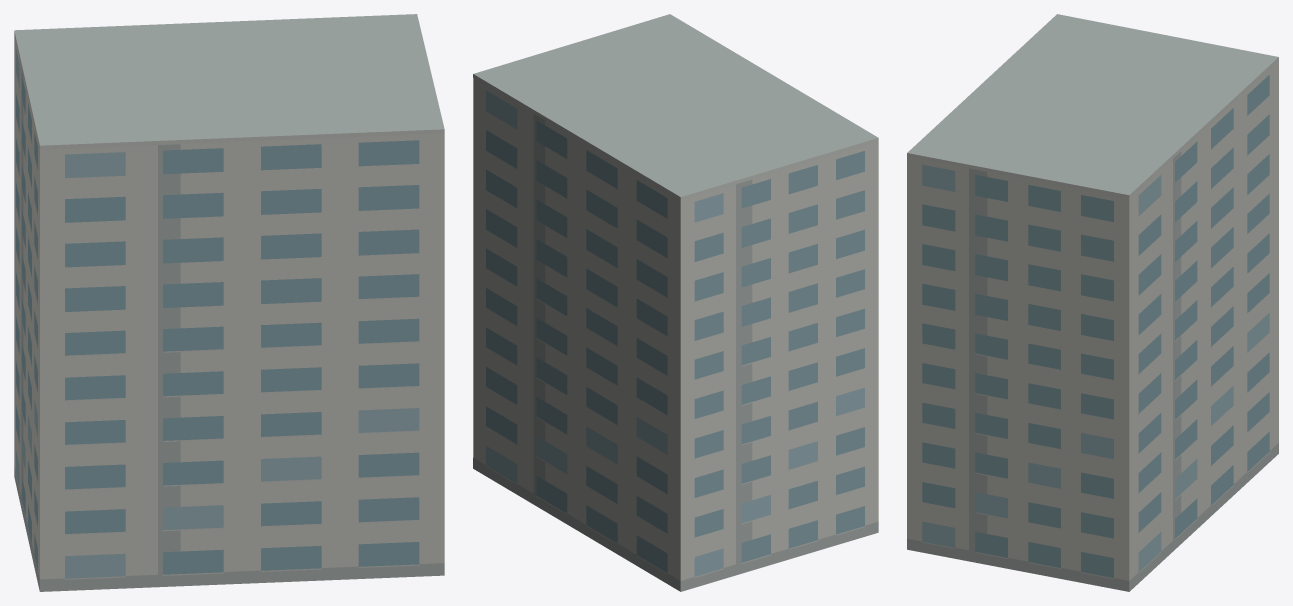
Rendered from residential-78c42910-112c-4ffe-bf8a-4cc31ca0dda2.glb.
The picture shows the model from 3 angles, left to right: view 1: azimuth 30°, elevation 25°; view 2: azimuth 150°, elevation 25°; view 3: azimuth 270°, elevation 25°; orthographic projection. The views are drawn at different scales.
Visible parts, largest first — view 1: residential-78c42910-112c-4ffe-bf8a-4cc31ca0dda2.tmp; view 2: residential-78c42910-112c-4ffe-bf8a-4cc31ca0dda2.tmp; view 3: residential-78c42910-112c-4ffe-bf8a-4cc31ca0dda2.tmp.
Part boxes in pixels (<box>): residential-78c42910-112c-4ffe-bf8a-4cc31ca0dda2.tmp: <box>14,14,444,591</box>; residential-78c42910-112c-4ffe-bf8a-4cc31ca0dda2.tmp: <box>473,14,878,591</box>; residential-78c42910-112c-4ffe-bf8a-4cc31ca0dda2.tmp: <box>907,14,1278,591</box>.
Size of the model in its own units: 25.49 by 26 by 22.1.
